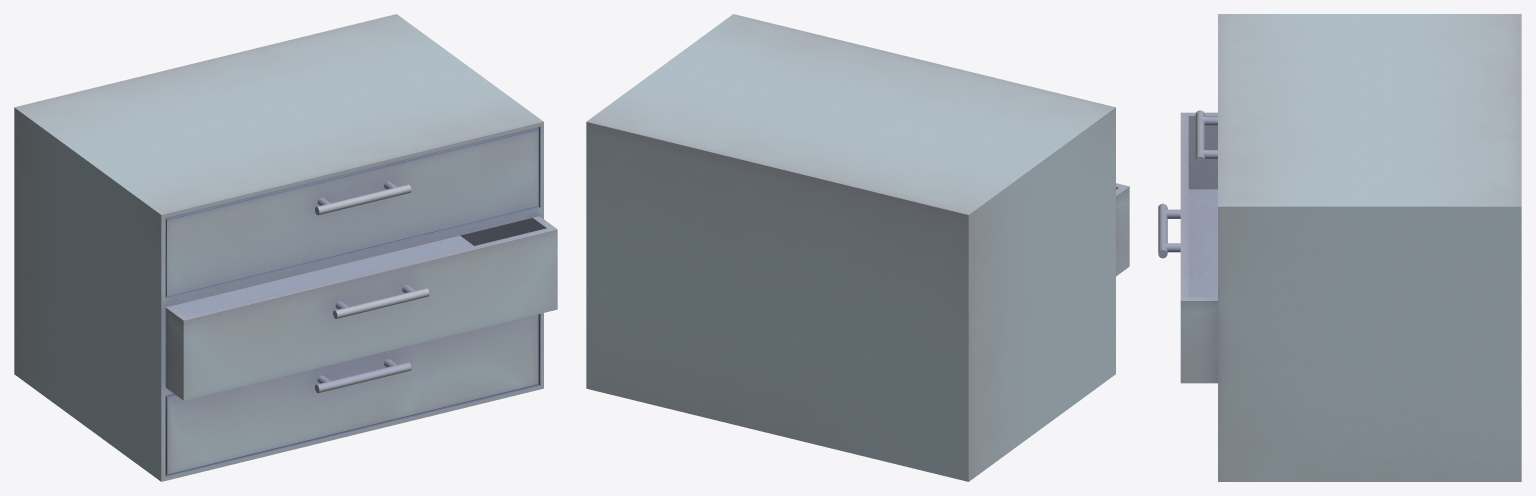
The model's file is cabinet_clutter.fbx.
3 views of the same model, side by side, from view 1: azimuth 30°, elevation 25°; view 2: azimuth 150°, elevation 25°; view 3: azimuth 270°, elevation 25° (orthographic). The views are drawn at different scales.
Visible parts, largest first — view 1: Desk; view 2: Desk; view 3: Desk.
Part boxes in pixels (<box>): Desk: <box>14,14,557,481</box>; Desk: <box>586,14,1129,481</box>; Desk: <box>1158,14,1521,481</box>.
Bounding box in the file's own units: 150 × 100 × 120.
1 material, 1 textured.
